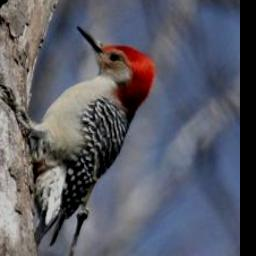Woodpecker: (0, 20, 162, 256)
